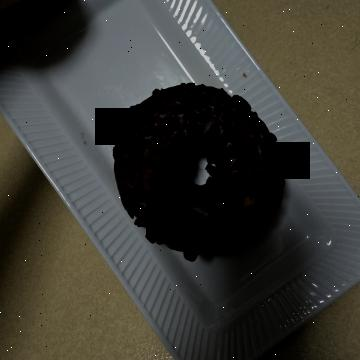doughnut: (78, 73, 274, 255)
